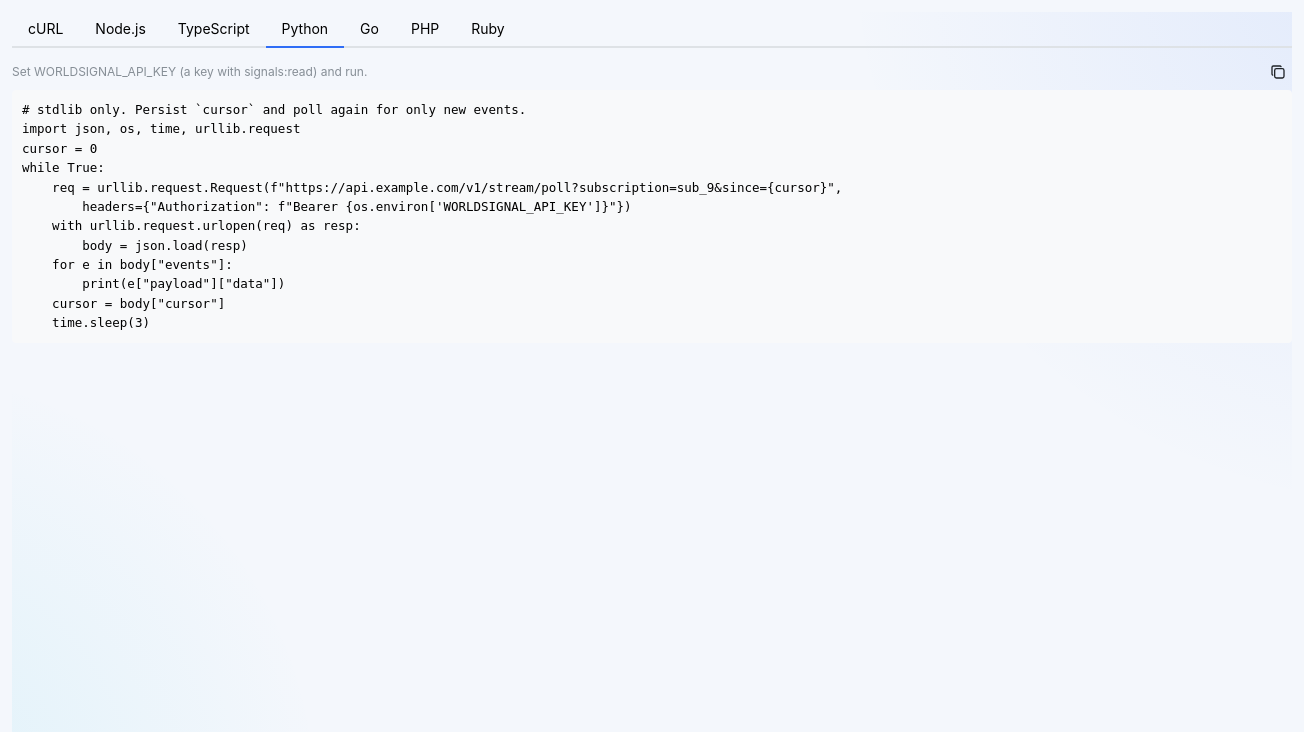
Scenario: CodeExamples › switches the snippet when a language tab is clicked
Expected: the text with test id "code-block" shows "urllib.request", [22, 102, 842, 330]
Click the tab with test id "code-tab-go" at point(370, 30), box [344, 12, 395, 48]
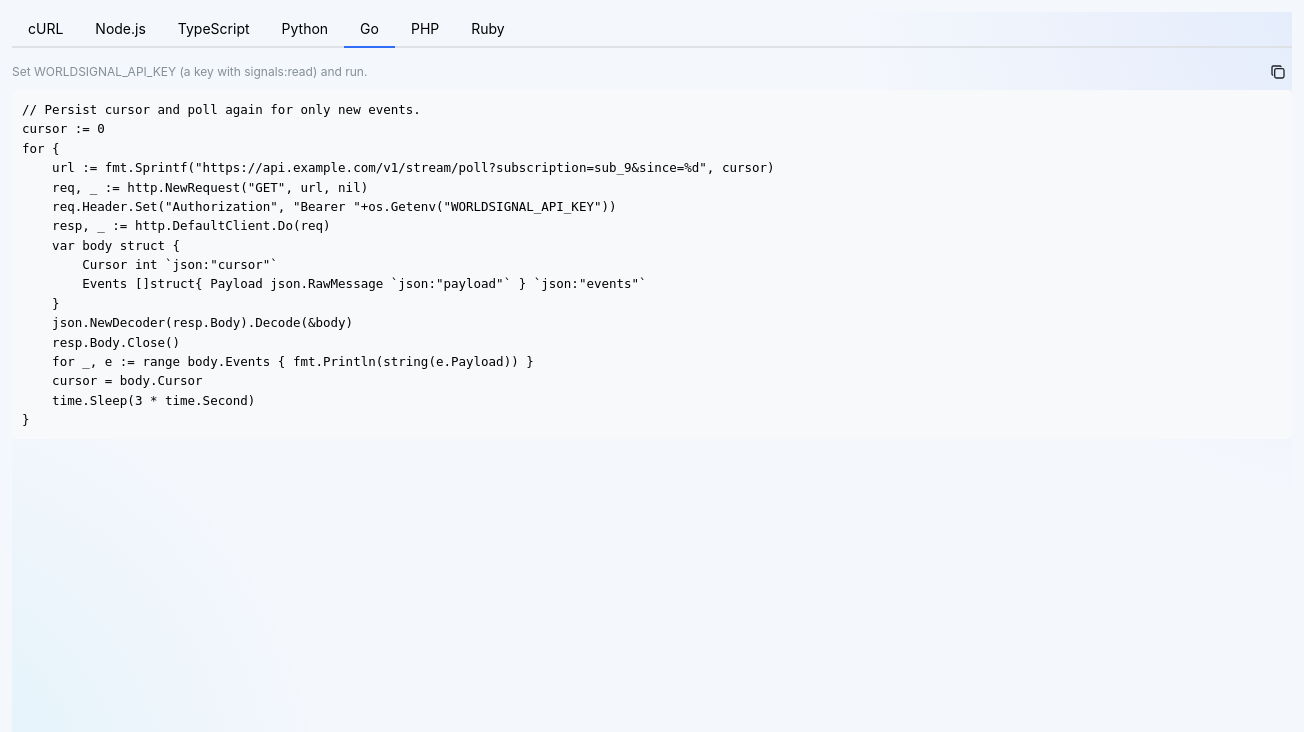
Result: the text with test id "code-block" shows "http.NewRequest" at [22, 102, 775, 427]
Click the tab with test id "code-tab-ruby" at point(488, 30), box [455, 12, 521, 48]
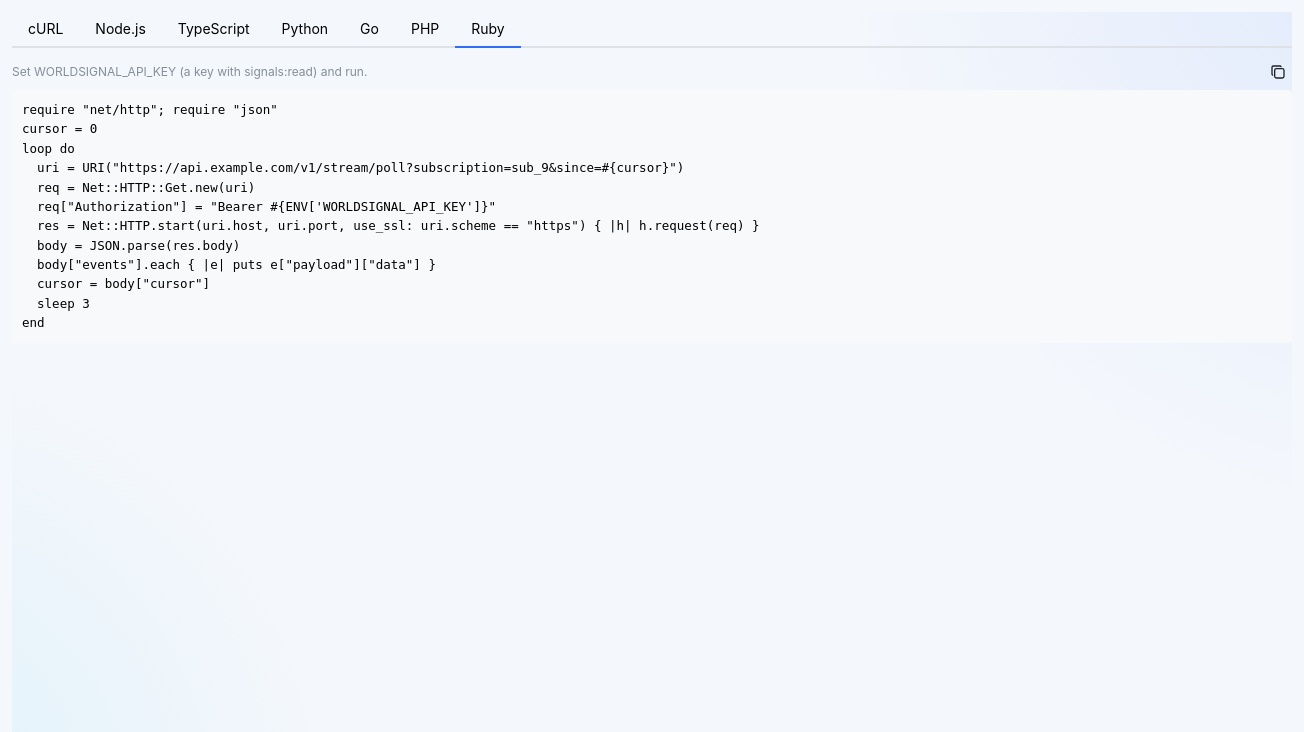
Result: the text with test id "code-block" shows "Net::HTTP" at [22, 102, 760, 330]
